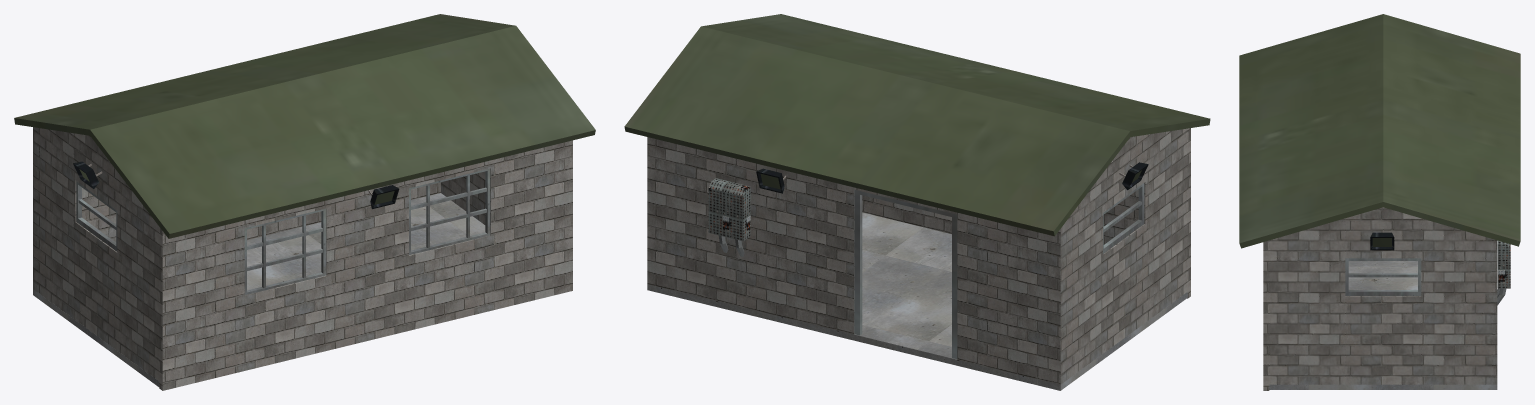
File: CheckPoint.fbx
3 views of the same model, side by side, from view 1: azimuth 30°, elevation 25°; view 2: azimuth 150°, elevation 25°; view 3: azimuth 270°, elevation 25° (orthographic). The views are drawn at different scales.
Parts seen in each view (by area): view 1: building_1_0; view 2: building_1_0; view 3: building_1_0.
Boxes of the visible parts, left/top/right/bottom form: building_1_0: left=14, top=14, right=595, bottom=390; building_1_0: left=624, top=14, right=1210, bottom=390; building_1_0: left=1239, top=14, right=1520, bottom=390.
Bounding box in the file's own units: 202 × 92.74 × 122.
